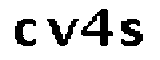4: (81, 5, 114, 48)
c: (11, 18, 40, 50)
s: (116, 13, 143, 52)
v: (45, 16, 77, 49)
